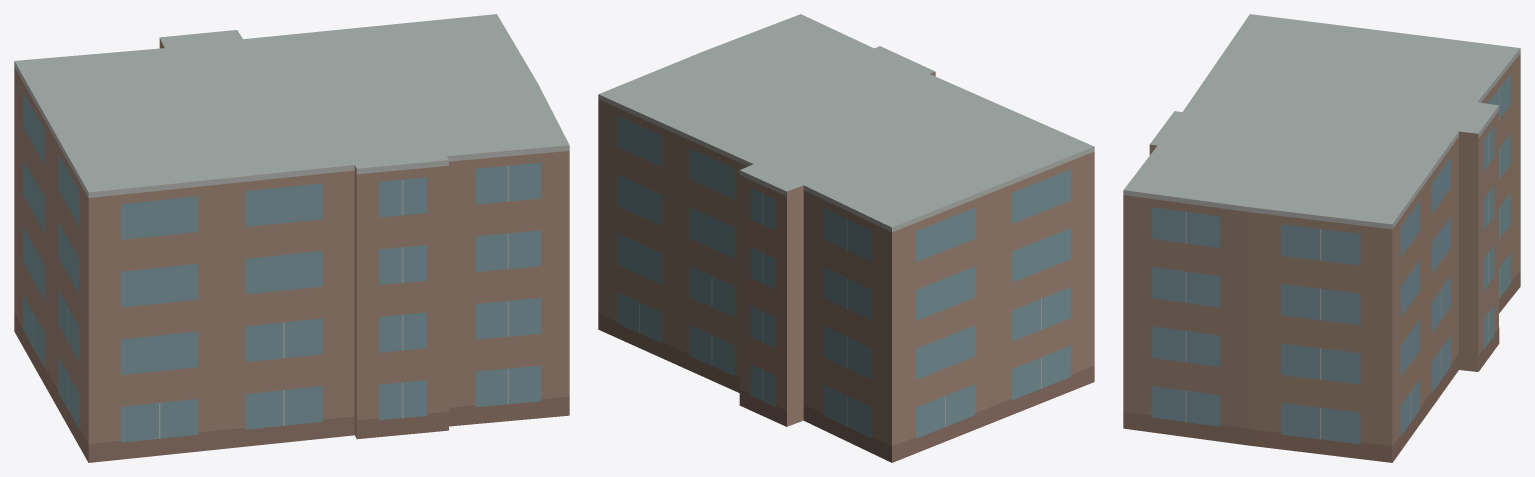
Rendered from survey-upis-32937819.glb.
The picture shows the model from 3 angles, left to right: view 1: azimuth 30°, elevation 25°; view 2: azimuth 150°, elevation 25°; view 3: azimuth 270°, elevation 25°; orthographic projection. The views are drawn at different scales.
Parts seen in each view (by area): view 1: survey-upis-32937819.tmp; view 2: survey-upis-32937819.tmp; view 3: survey-upis-32937819.tmp.
Boxes of the visible parts, x1,y1,x2,y2 form: survey-upis-32937819.tmp: [14, 14, 569, 462]; survey-upis-32937819.tmp: [598, 14, 1094, 462]; survey-upis-32937819.tmp: [1123, 14, 1520, 462].
Bounding box in the file's own units: 22.35 × 11.8 × 17.83.
